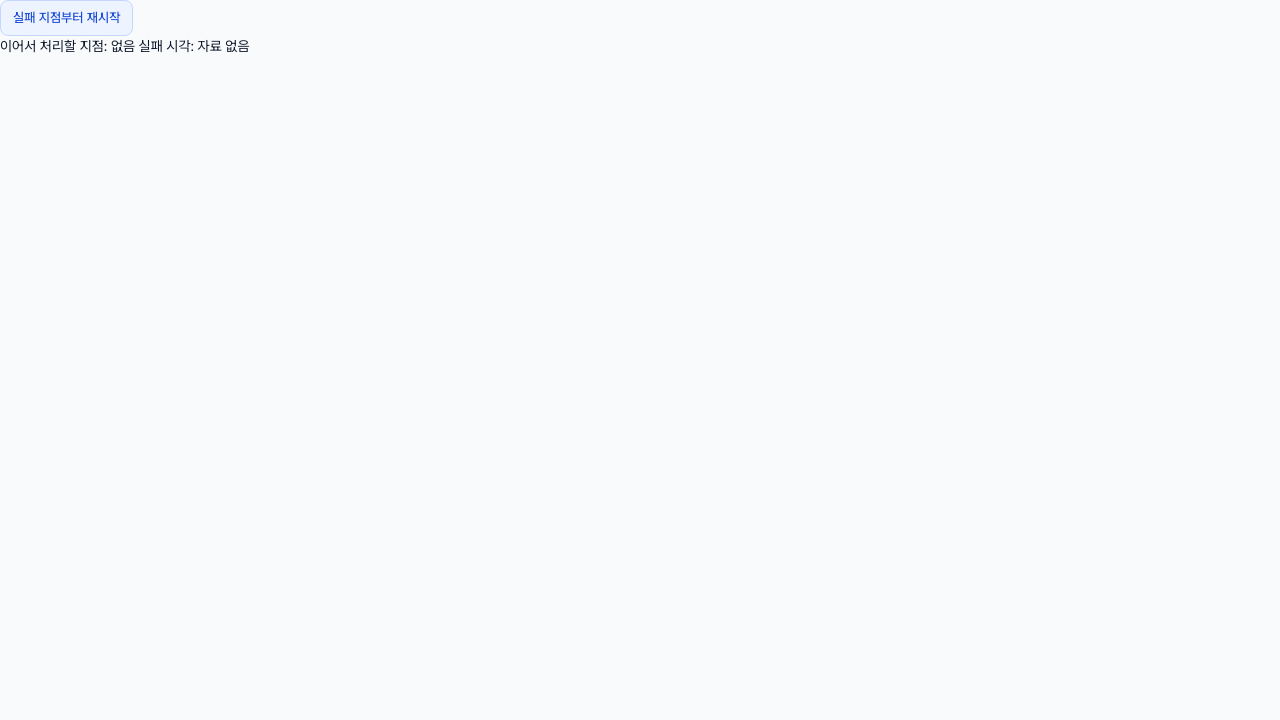
Scenario: FGC-FUN-045 requires a reason and sends the observed execution with one idempotency key
Later steps or results of the test are not shown.
Click the button "실패 지점부터 재시작" at coordinates (67, 18), box [0,0,134,36]
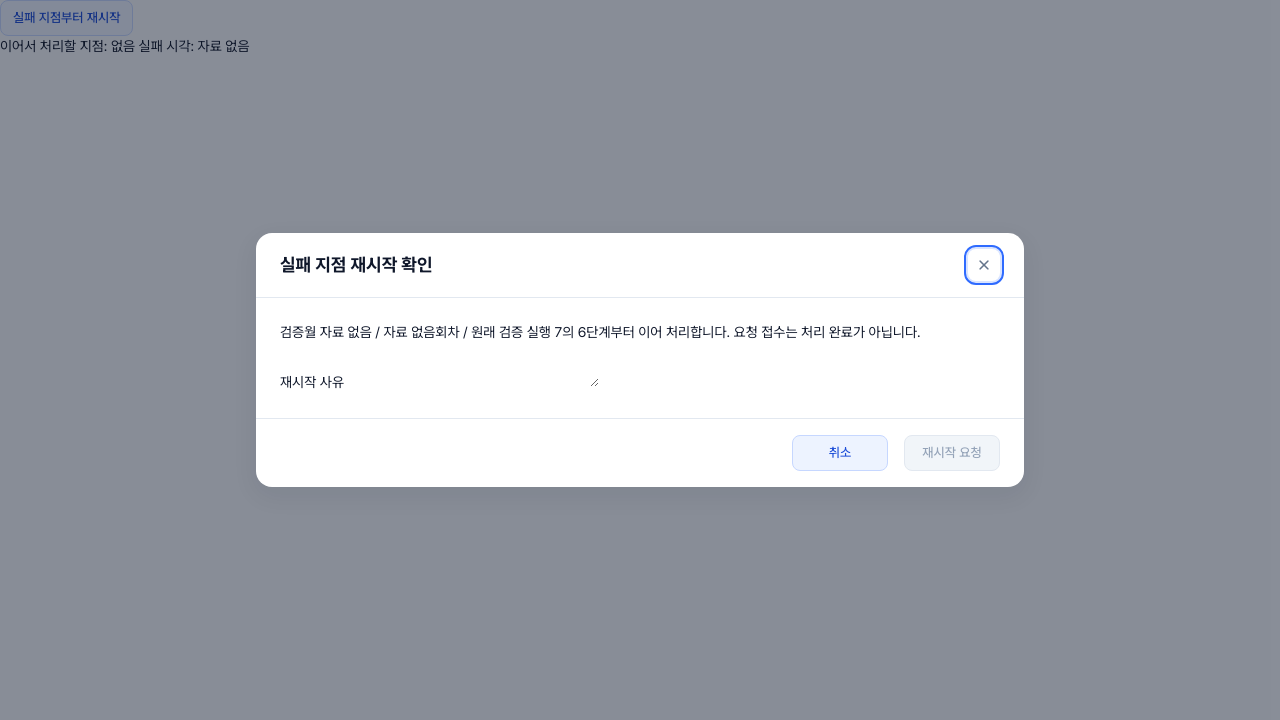
Result: the button "재시작 요청" is disabled at [904,436,1000,472]
